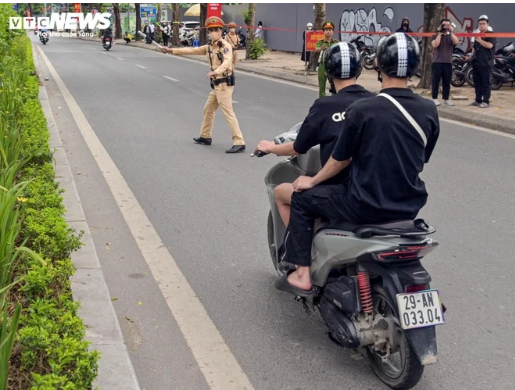Bien-so: (392, 289, 446, 333)
